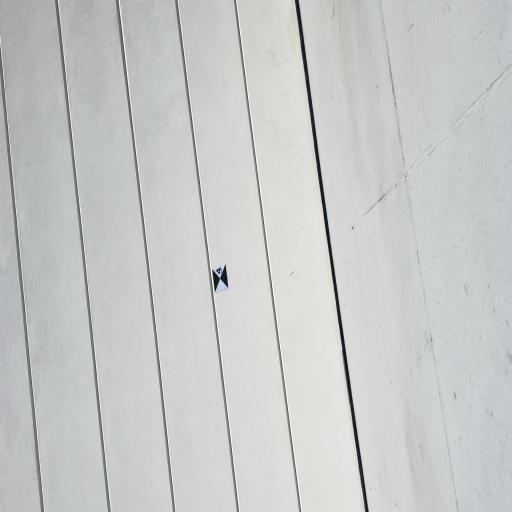target4: (212, 264, 229, 293)
